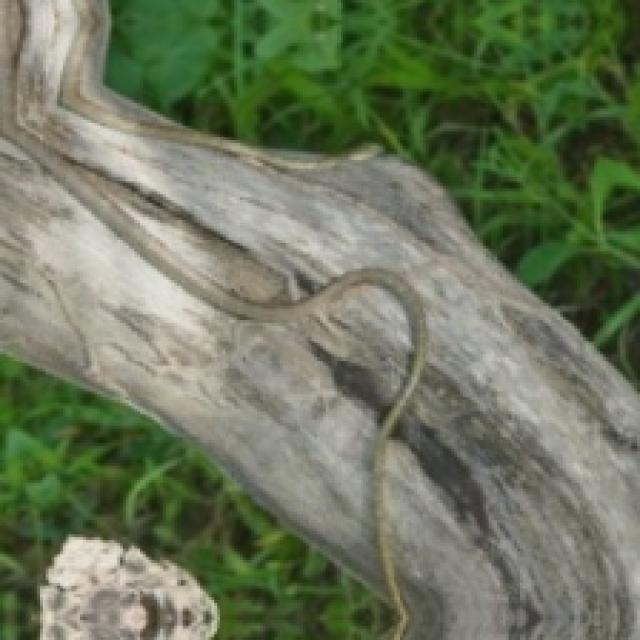paradise tree snake: (29, 274, 423, 637), (26, 474, 71, 546)
